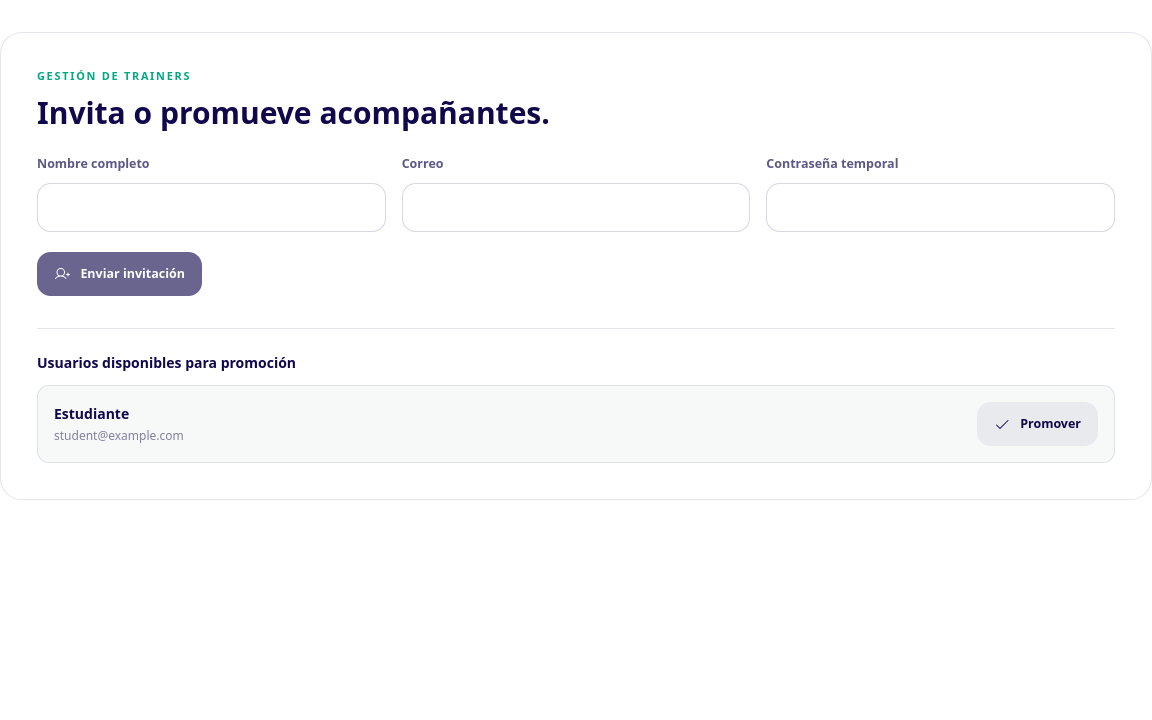
Test: educator controls › invites trainers and promotes existing users
Type "Nuevo trainer" into the field labelled "Nombre completo". click: (211,207)
box: [37,183,386,232]
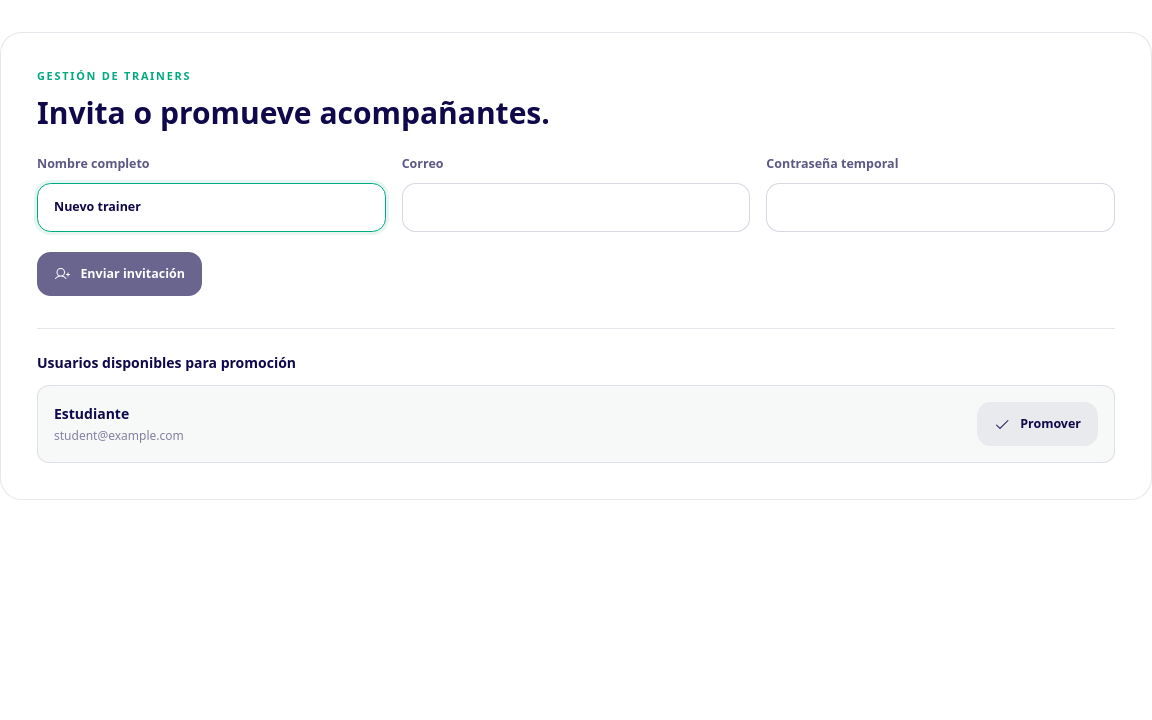
Type "trainer@example.com" into the field labelled "Correo". click: (576,207)
box: [402,183,750,232]
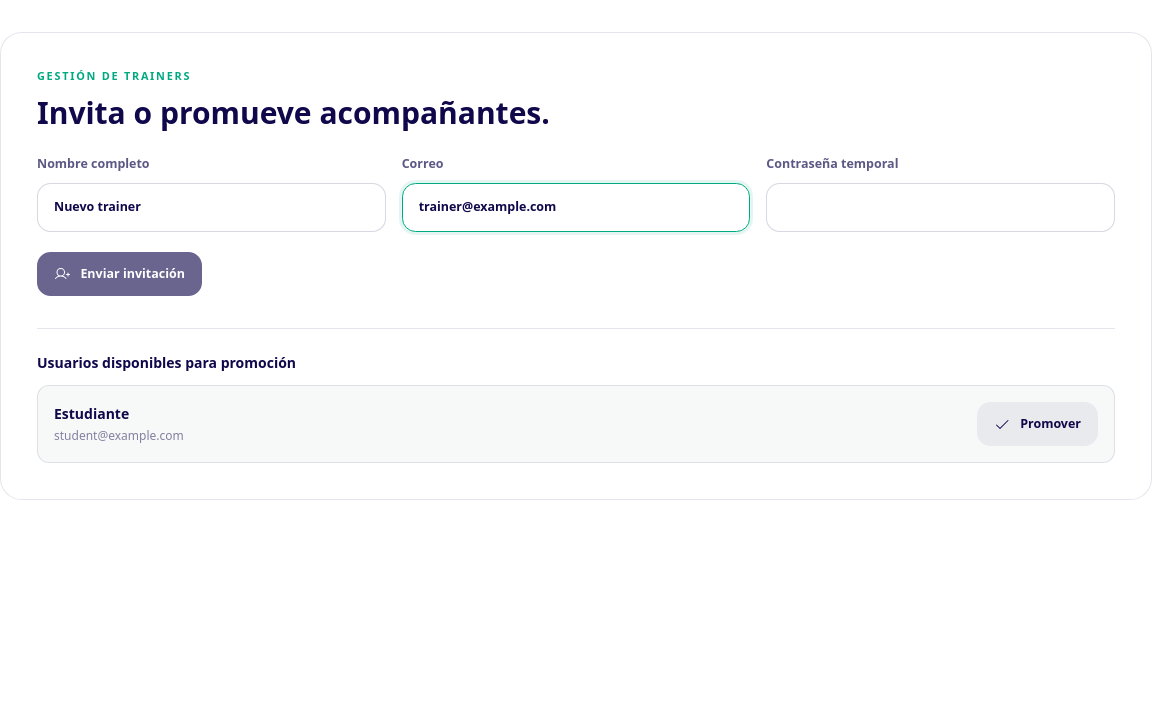
Type "password-123" into the password field labelled "Contraseña temporal". click: (941,207)
box: [766,183,1115,232]
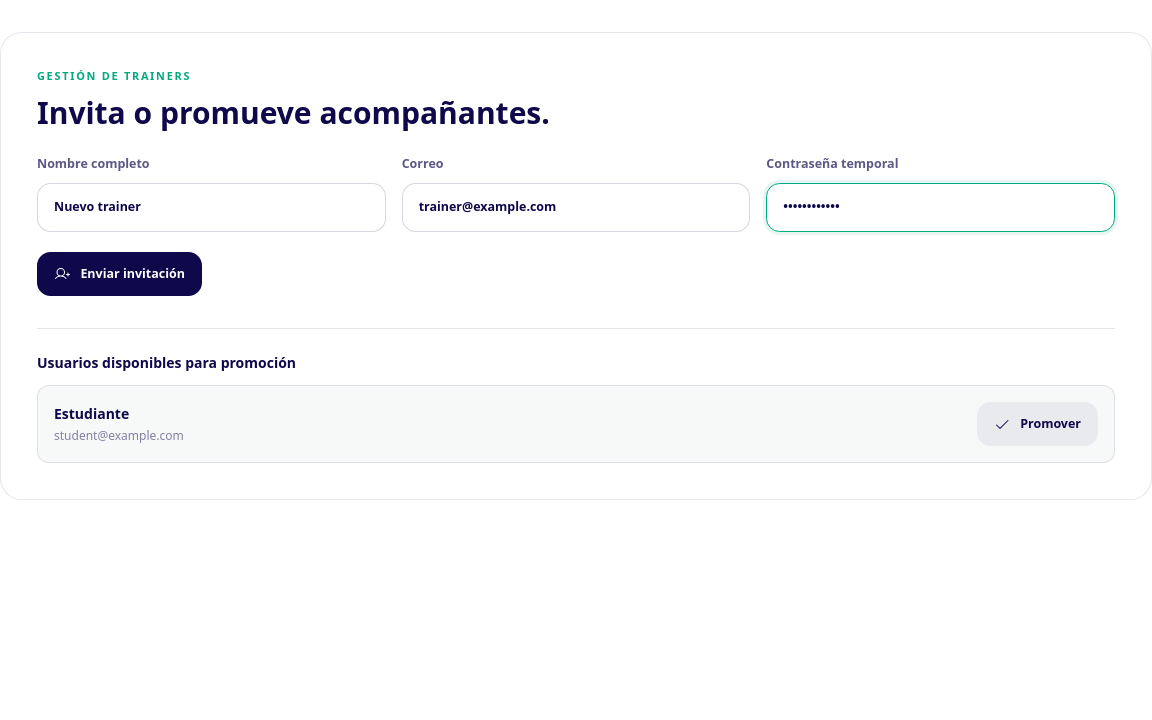
Click the button "Enviar invitación". click: (119,274)
box: [37,252,202,296]
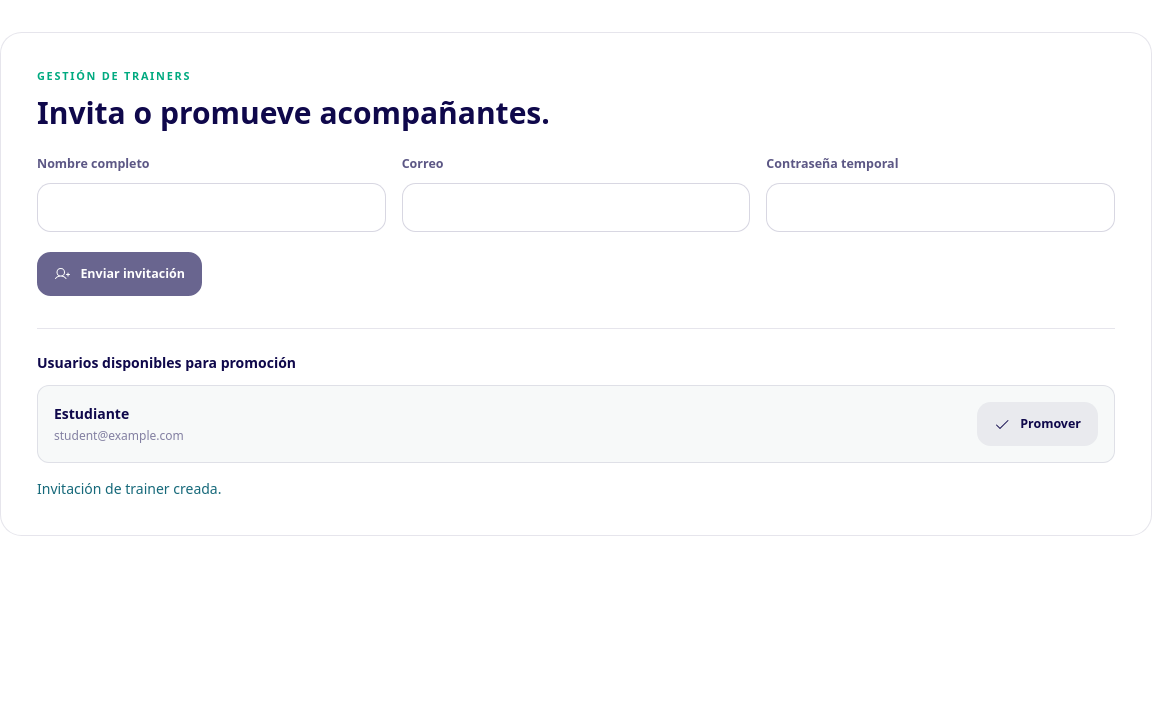
Result: the message reads "Invitación de trainer creada." at [37,479,222,498]
Click the button "Promover". click: (1037,424)
box: [977,402,1098,446]
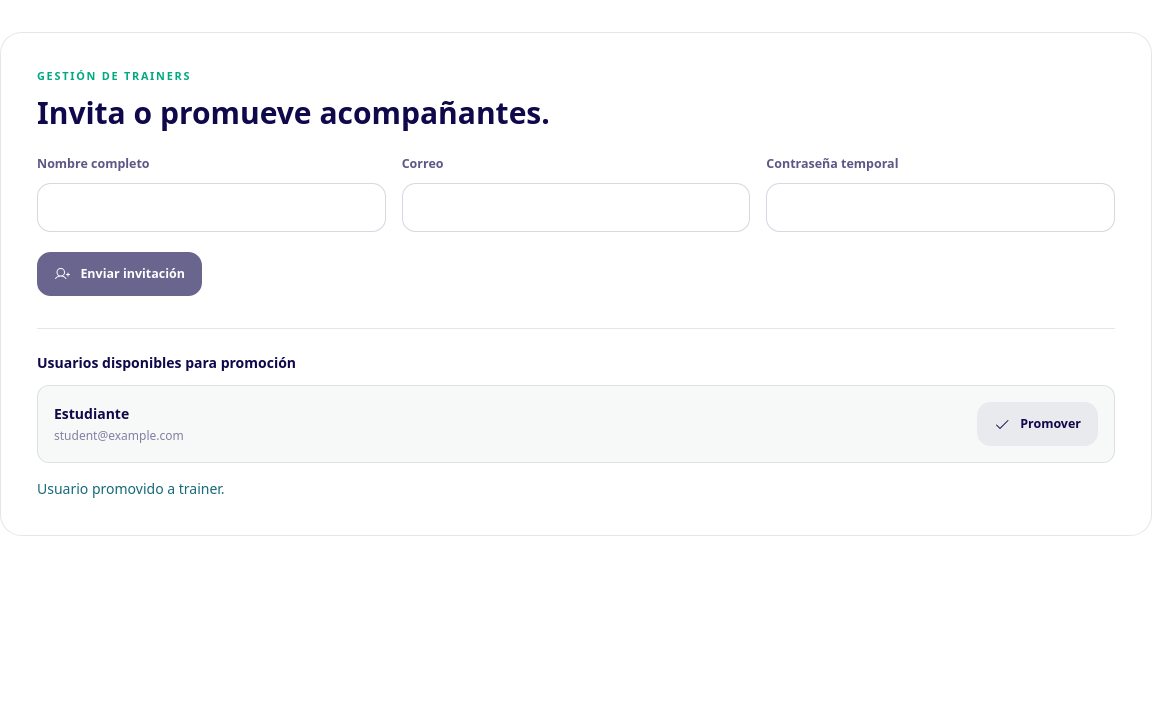
Result: the message reads "Usuario promovido a trainer." at [37,479,225,498]
